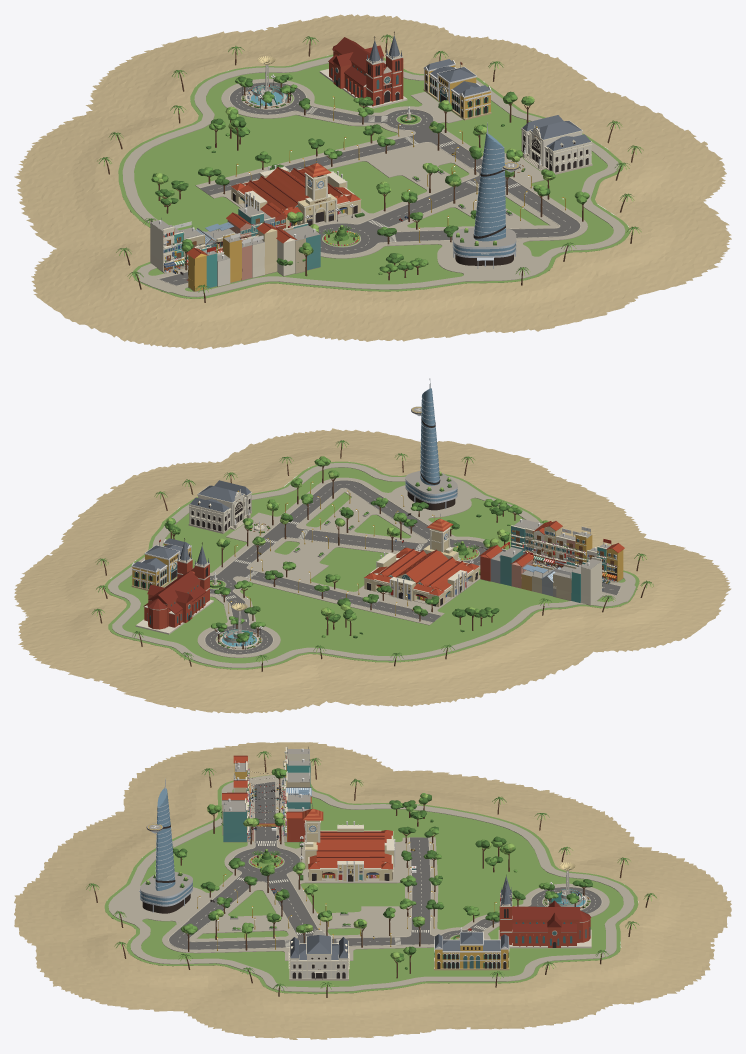
The model's file is saigon_q1_v5.glb.
3 views of the same model, one above another, from view 1: azimuth 30°, elevation 25°; view 2: azimuth 150°, elevation 25°; view 3: azimuth 270°, elevation 25° (orthographic). The views are drawn at different scales.
Parts seen in each view (by area): view 1: IS_Beach, LM_TuongDucMe, BT_Arcades, BT_Halls, IX_Roads_v4, LF_Roundabout, LM_BuuDien, SH_01_StairHouse, LM_Bitexco, LM_NhaThoDucBa, BT_SideGates, SH_04 (+3 smaller); view 2: IS_Beach, LM_TuongDucMe, BT_Arcades, BT_Halls, IX_Roads_v4, LF_Roundabout, SH_01_StairHouse, LM_BuuDien, LM_NhaThoDucBa, LM_Bitexco, BT_SideGates, SH_04 (+3 smaller); view 3: IS_Beach, LM_TuongDucMe, BT_Arcades, IX_Roads_v4, BT_Halls, LF_Roundabout, SH_01_StairHouse, LM_BuuDien, LM_NhaThoDucBa, LM_Bitexco, BT_SideGates, SH_04 (+3 smaller).
Boxes of the visible parts, x1,y1,x2,y2 form: IS_Beach: (14,14,731,349); LM_TuongDucMe: (118,54,629,298); BT_Arcades: (98,35,641,297); BT_Halls: (150,37,592,277); IX_Roads_v4: (158,82,580,285); LF_Roundabout: (101,34,639,302); LM_BuuDien: (176,59,590,291); SH_01_StairHouse: (105,31,634,287); LM_Bitexco: (452,122,516,268); LM_NhaThoDucBa: (245,35,518,228); BT_SideGates: (159,60,538,272); SH_04: (97,35,643,292); IS_Beach: (14,428,731,713); LM_TuongDucMe: (104,461,639,669); BT_Arcades: (92,407,653,667); BT_Halls: (143,485,624,624); IX_Roads_v4: (204,480,621,654); LF_Roundabout: (94,440,651,671); SH_01_StairHouse: (102,406,618,648); LM_BuuDien: (131,480,623,590); LM_NhaThoDucBa: (135,523,490,648); LM_Bitexco: (405,378,457,508); BT_SideGates: (131,408,606,644); SH_04: (91,440,653,662); IS_Beach: (14,742,731,1039); LM_TuongDucMe: (104,774,638,994); BT_Arcades: (86,751,656,992); IX_Roads_v4: (168,781,602,949); BT_Halls: (222,747,591,978); LF_Roundabout: (88,752,654,997); SH_01_StairHouse: (140,747,589,979); LM_BuuDien: (234,763,509,970); LM_NhaThoDucBa: (287,819,591,948); LM_Bitexco: (139,778,192,912); BT_SideGates: (151,748,585,969); SH_04: (86,751,656,991).
Bounding box in the file's own units: 268 × 55.1 × 273.
